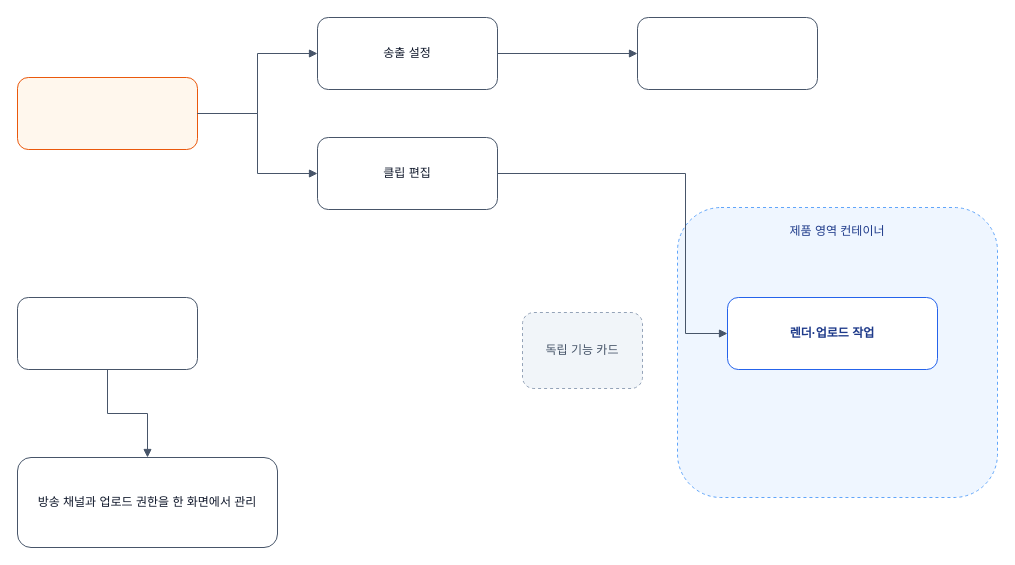
Some shapes in this 1015 by 565 pixel diagram are drawn without their labels. The centre of each missing label's shape, as x and y in pixels:
"Windows 빌드" goes at point (727, 53).
"계정 설정" goes at point (107, 333).
"라이브 대시보드" goes at point (107, 113).
